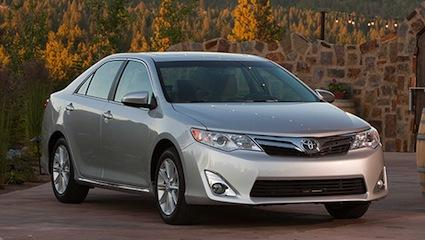car: (27, 38, 394, 236)
